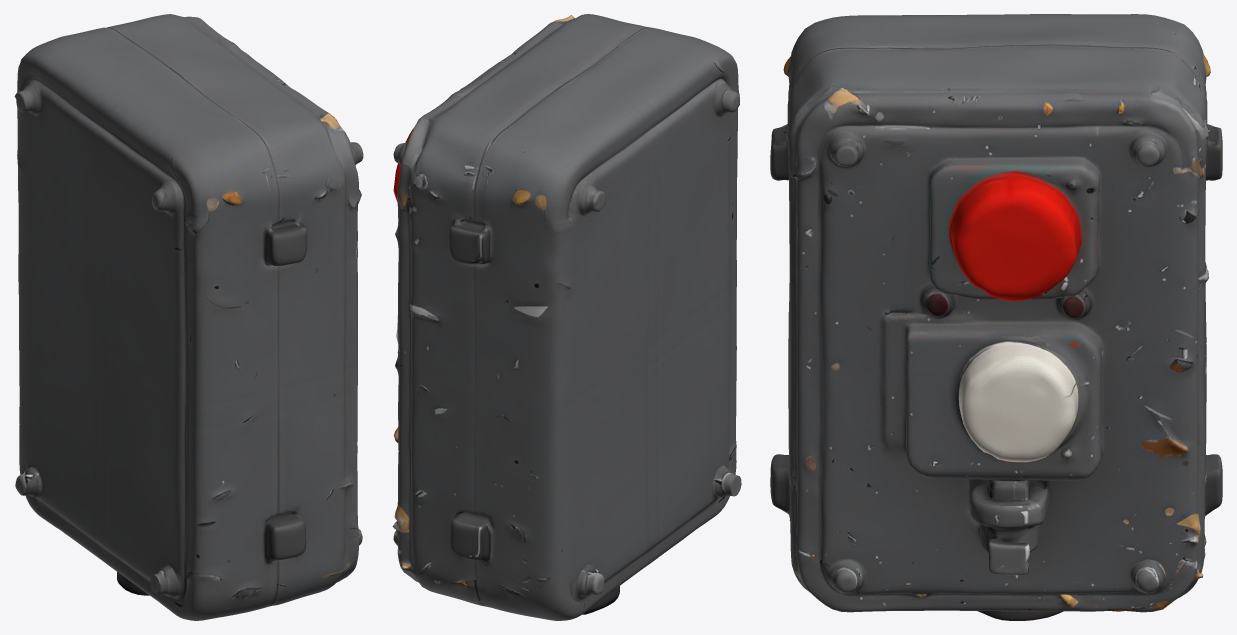
File: fn_door_panel.glb
The picture shows the model from 3 angles, left to right: view 1: azimuth 30°, elevation 25°; view 2: azimuth 150°, elevation 25°; view 3: azimuth 270°, elevation 25°; orthographic projection. The views are drawn at different scales.
Parts seen in each view (by area): view 1: tripo_node_fd93830a-318f-408b-923a-6dbdd5a1f3cb; view 2: tripo_node_fd93830a-318f-408b-923a-6dbdd5a1f3cb; view 3: tripo_node_fd93830a-318f-408b-923a-6dbdd5a1f3cb.
Part boxes in pixels (box(x1,y1,x2,y2)): tripo_node_fd93830a-318f-408b-923a-6dbdd5a1f3cb: box(14, 14, 363, 620); tripo_node_fd93830a-318f-408b-923a-6dbdd5a1f3cb: box(392, 14, 741, 620); tripo_node_fd93830a-318f-408b-923a-6dbdd5a1f3cb: box(770, 14, 1222, 620).
Bounding box in the file's own units: 0.4904 × 0.9803 × 0.7107.
1 material, 1 textured.
